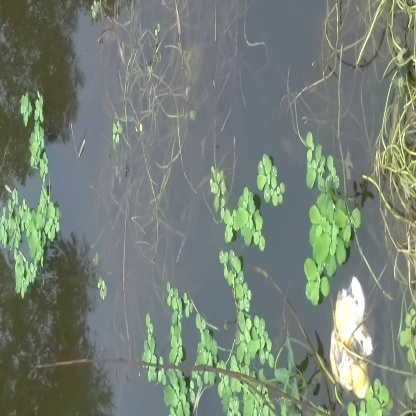leaf: (252, 153, 290, 206)
